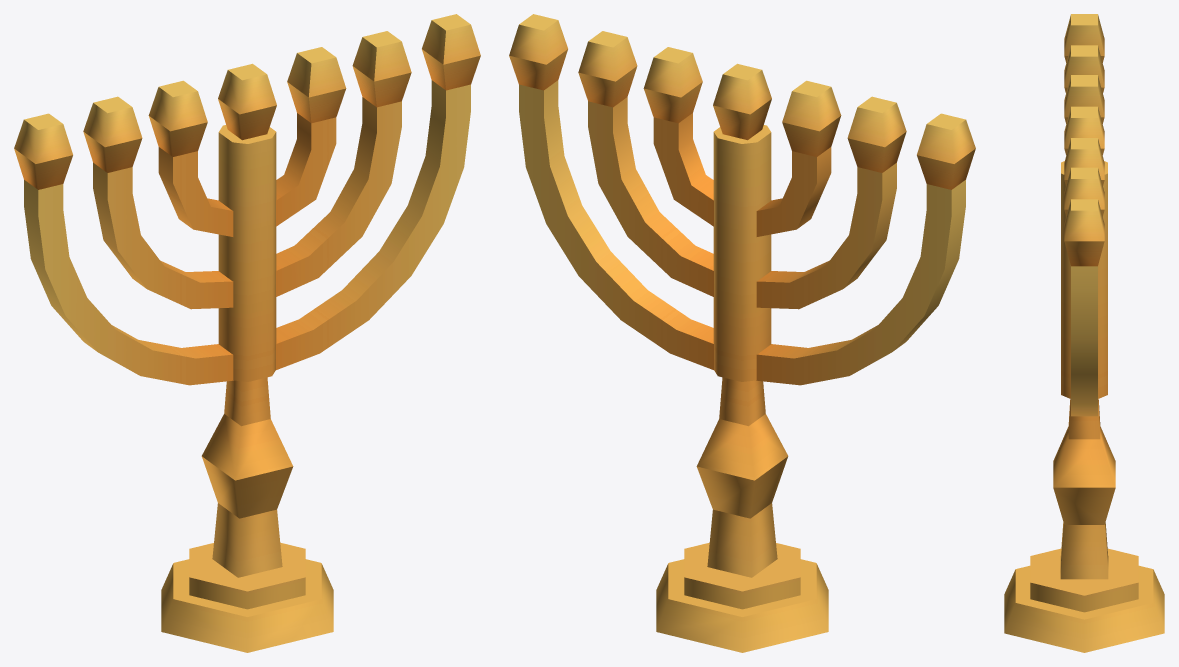
The model's file is menorah.glb.
3 views of the same model, side by side, from view 1: azimuth 30°, elevation 25°; view 2: azimuth 150°, elevation 25°; view 3: azimuth 270°, elevation 25° (orthographic). The views are drawn at different scales.
Visible parts, largest first — view 1: hanukkah-menorah; view 2: hanukkah-menorah; view 3: hanukkah-menorah.
Boxes of the visible parts, x1,y1,x2,y2 form: hanukkah-menorah: (14, 14, 480, 652); hanukkah-menorah: (509, 14, 975, 652); hanukkah-menorah: (1004, 14, 1164, 652).
Bounding box in the file's own units: 0.5642 × 0.6525 × 0.189.
Materials: 1 (1 with a texture image).
